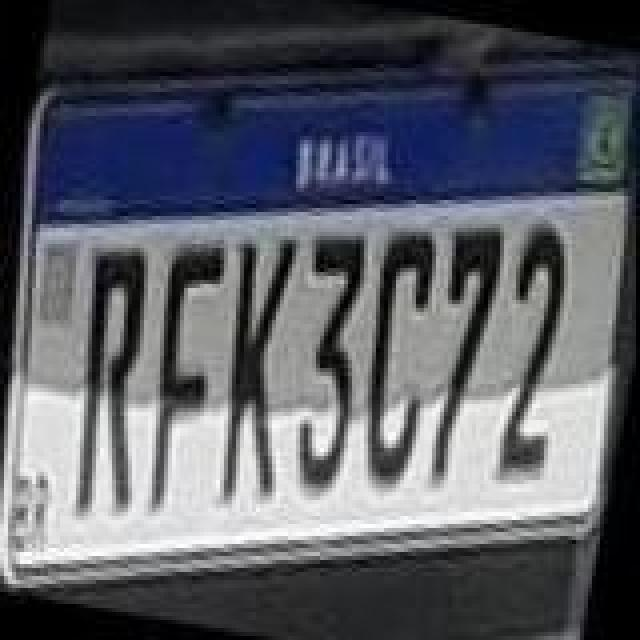2: (480, 226, 592, 478)
3: (270, 224, 386, 496)
7: (408, 218, 512, 486)
C: (338, 226, 454, 486)
F: (124, 238, 236, 514)
K: (196, 230, 324, 514)
R: (44, 242, 180, 526)
